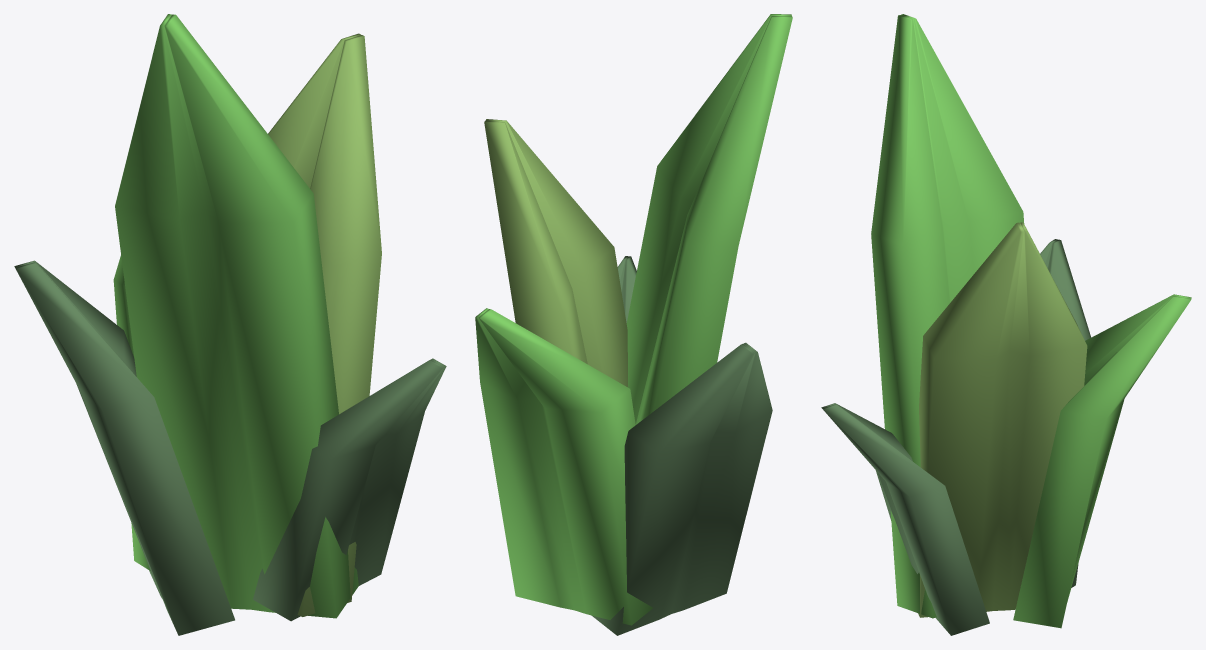
File: grass_02.fbx
The picture shows the model from 3 angles, left to right: view 1: azimuth 30°, elevation 25°; view 2: azimuth 150°, elevation 25°; view 3: azimuth 270°, elevation 25°; orthographic projection. The views are drawn at different scales.
Visible parts, largest first — view 1: GrassClump01.002; view 2: GrassClump01.002; view 3: GrassClump01.002.
Boxes of the visible parts, box(x1,y1,x2,y2) form: GrassClump01.002: box(14, 14, 446, 635); GrassClump01.002: box(475, 14, 792, 635); GrassClump01.002: box(821, 14, 1191, 635).
Bounding box in the file's own units: 46.62 × 88.08 × 55.23.
